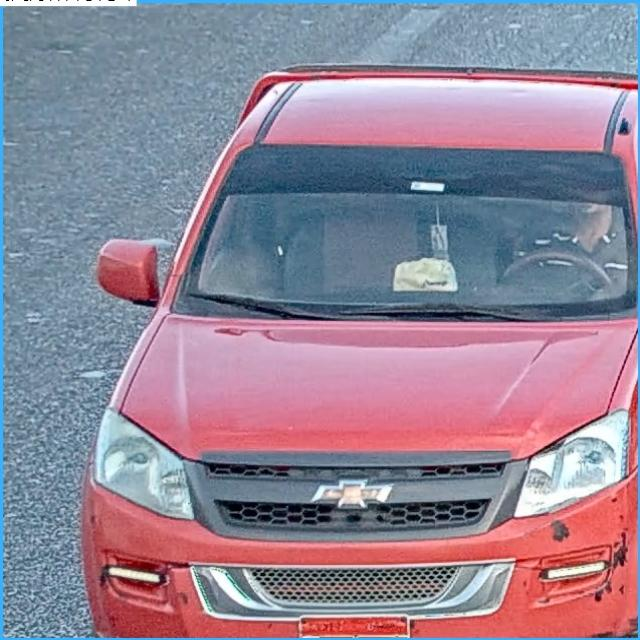windshield: (183, 146, 629, 301)
